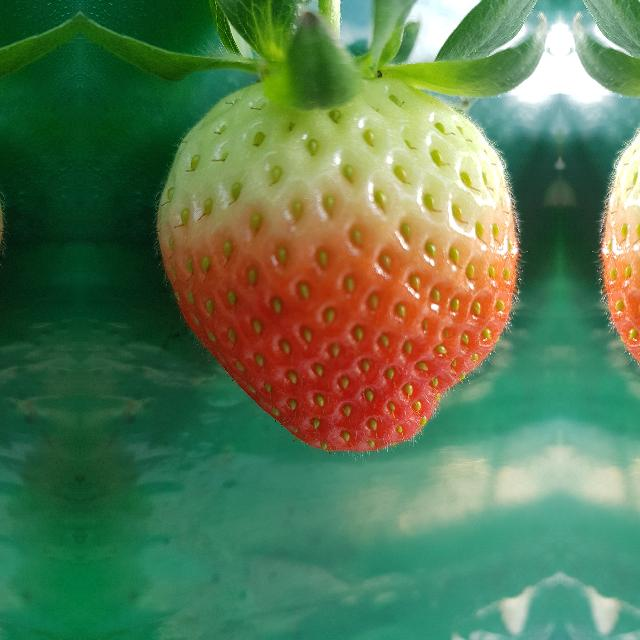Health_75: (155, 82, 520, 456)
